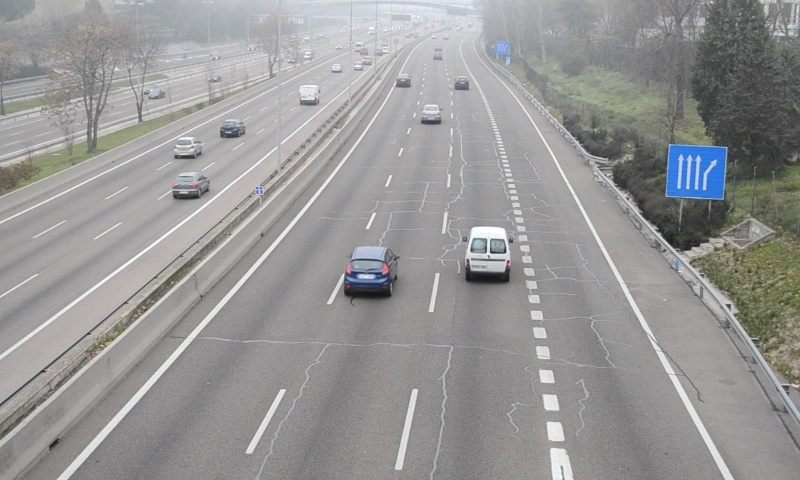car: (344, 246, 396, 296), (420, 104, 440, 122), (394, 72, 412, 87), (454, 76, 469, 90)
van: (464, 226, 510, 280)
